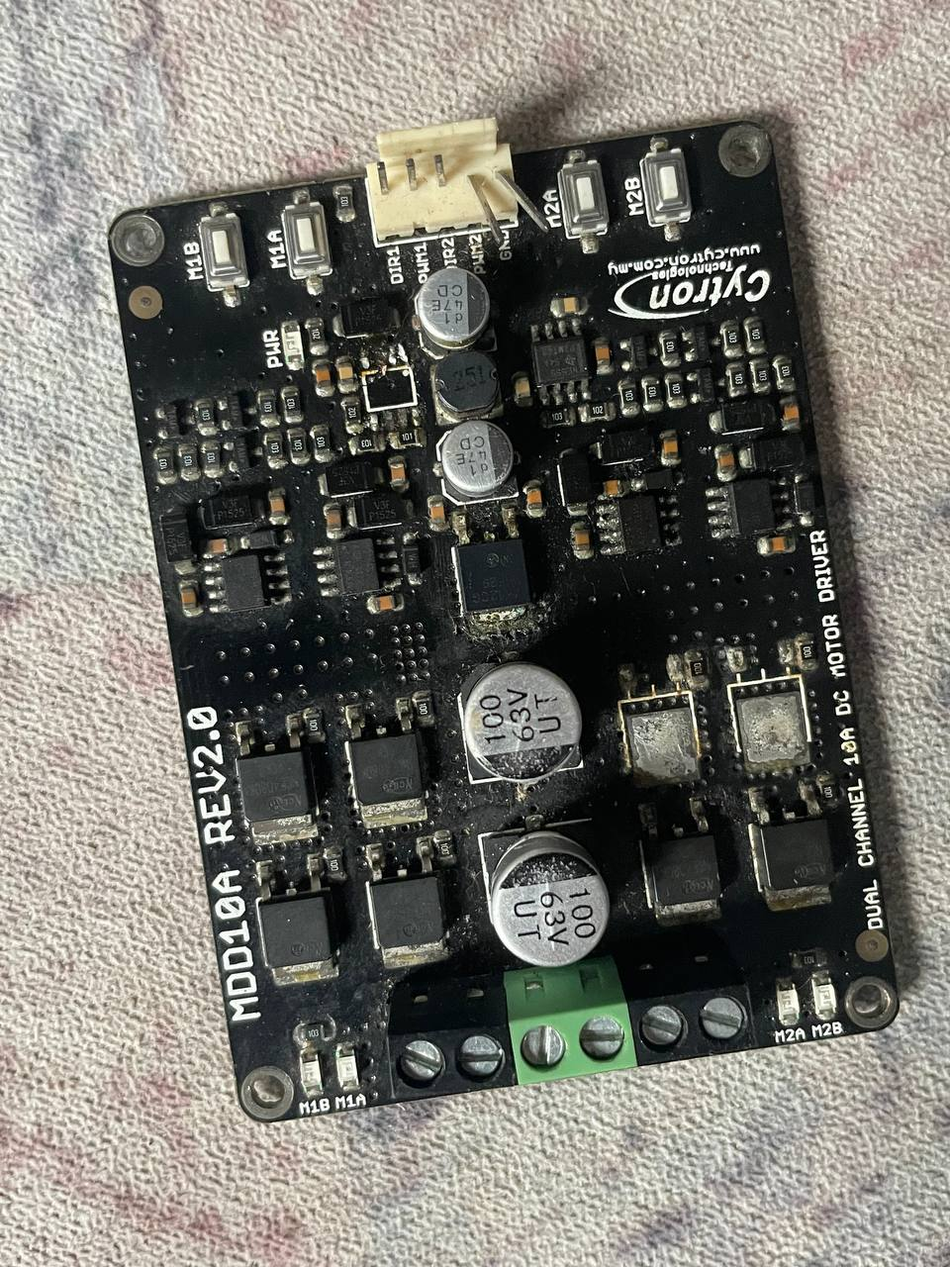bent_pin: (492, 167, 558, 235), (452, 170, 506, 248)
missing_comp: (616, 684, 704, 774), (725, 666, 813, 756), (354, 364, 422, 415)
